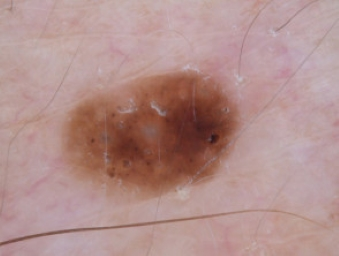seborrheic keratosis: (50, 61, 245, 200)
